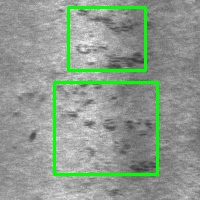rolled-in_scale: (54, 82, 157, 174), (68, 7, 145, 70)
